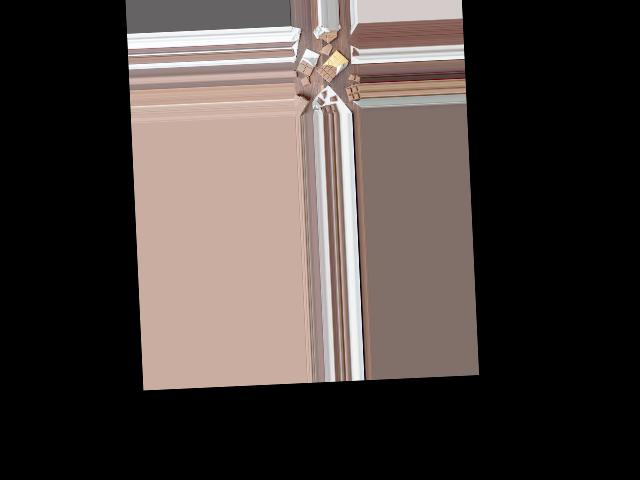chocolate: (293, 49, 321, 76)
